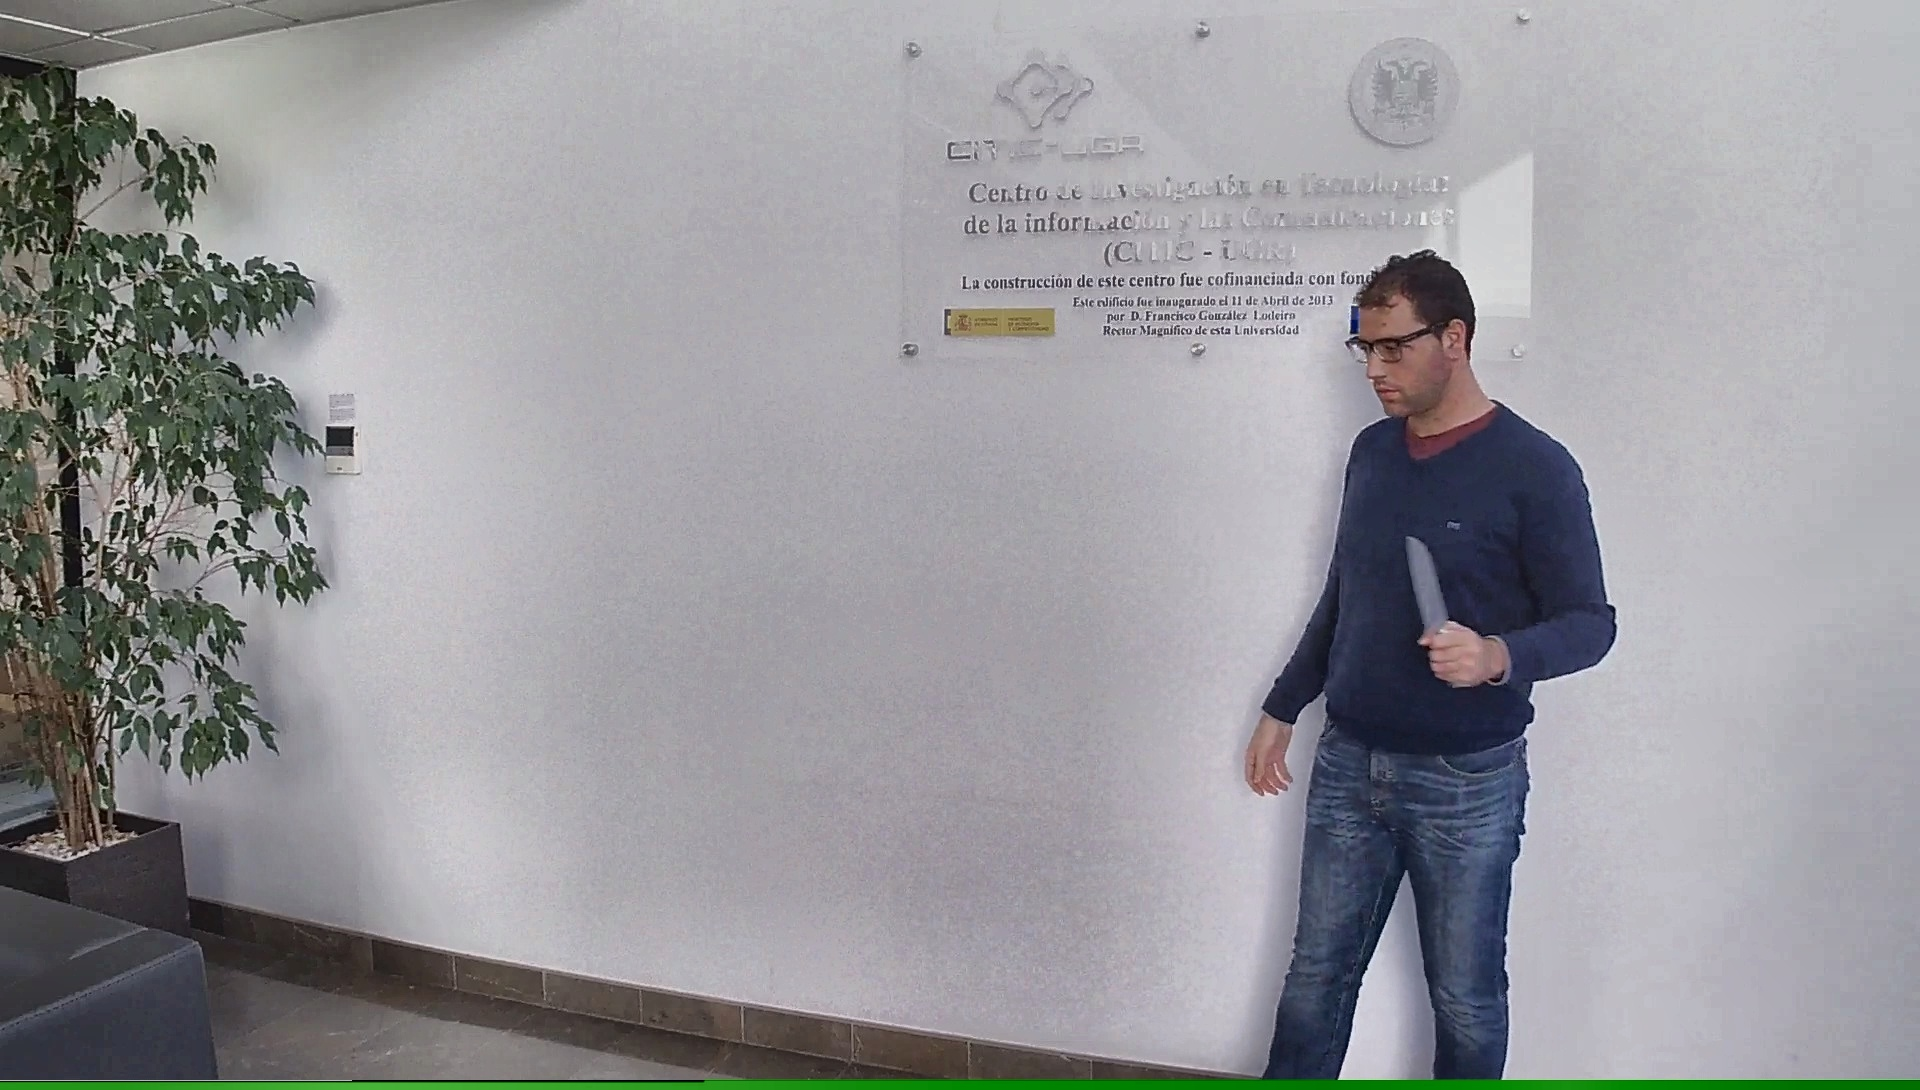knife: (1398, 527, 1466, 693)
